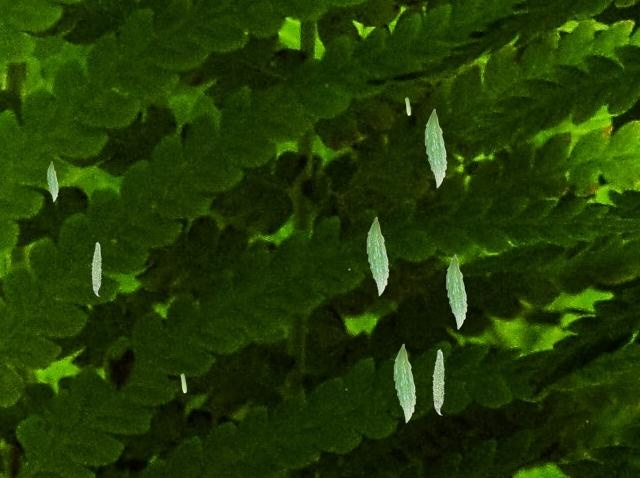ampalaya: (424, 108, 447, 188), (393, 343, 416, 423), (366, 216, 389, 296), (445, 254, 467, 330), (432, 348, 445, 415), (91, 241, 102, 296), (46, 160, 58, 202), (180, 373, 187, 393), (404, 97, 411, 115)
